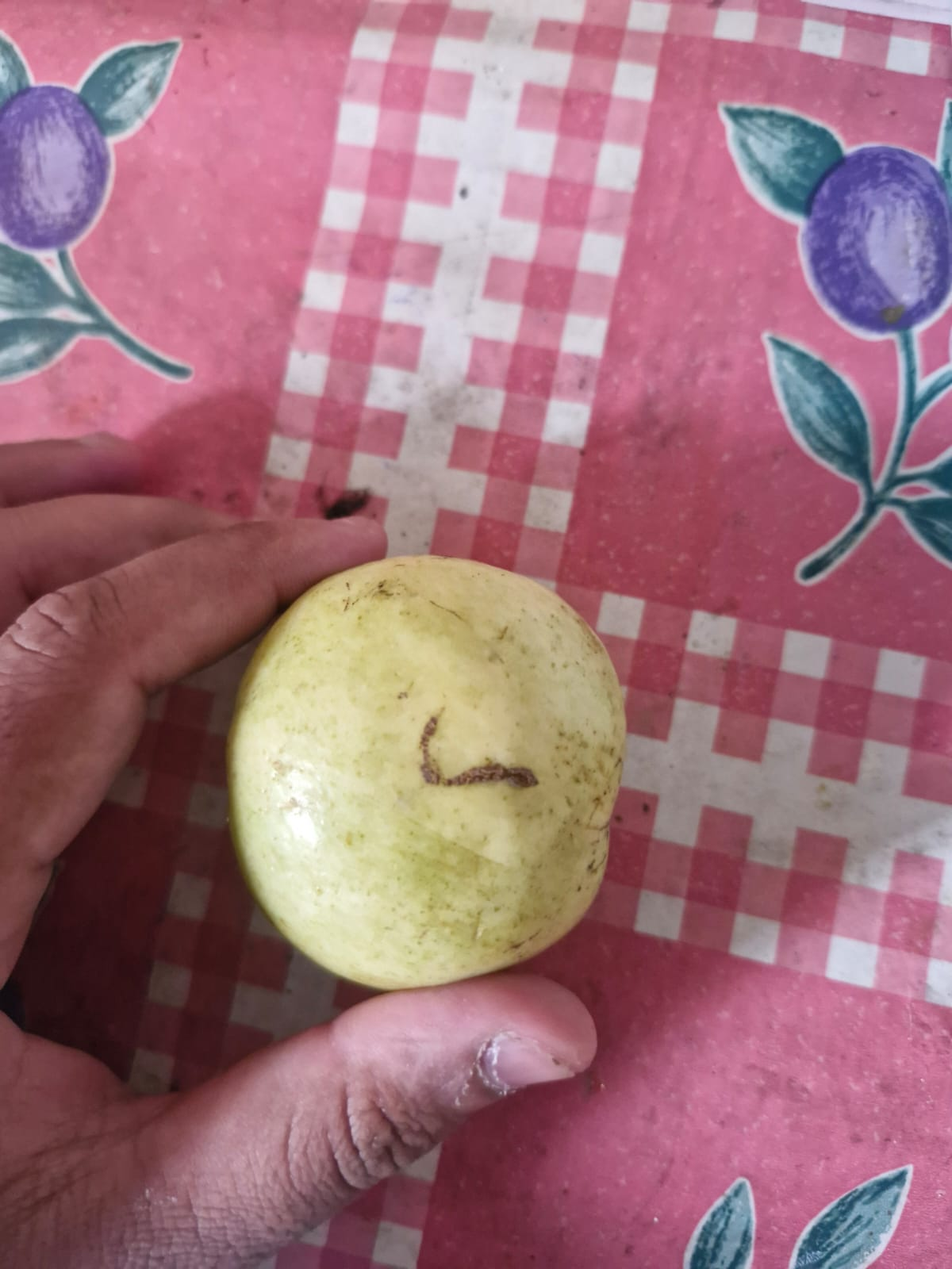guava: (86, 224, 926, 1241)
